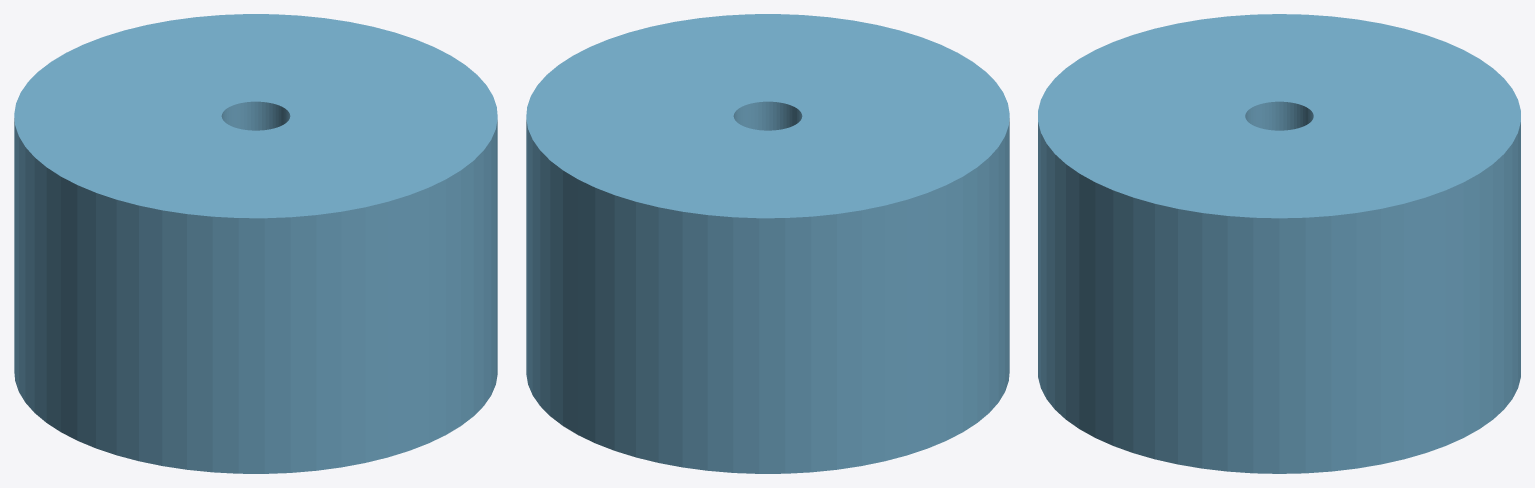
File: oil-pressure-insulator.glb
The picture shows the model from 3 angles, left to right: view 1: azimuth 30°, elevation 25°; view 2: azimuth 150°, elevation 25°; view 3: azimuth 270°, elevation 25°; orthographic projection.
Visible parts, largest first — view 1: world; view 2: world; view 3: world.
Boxes of the visible parts, x1,y1,x2,y2 form: world: [14, 14, 497, 473]; world: [526, 14, 1009, 473]; world: [1038, 14, 1520, 473].
Size of the model in its own units: 0.024 by 0.014 by 0.024.
